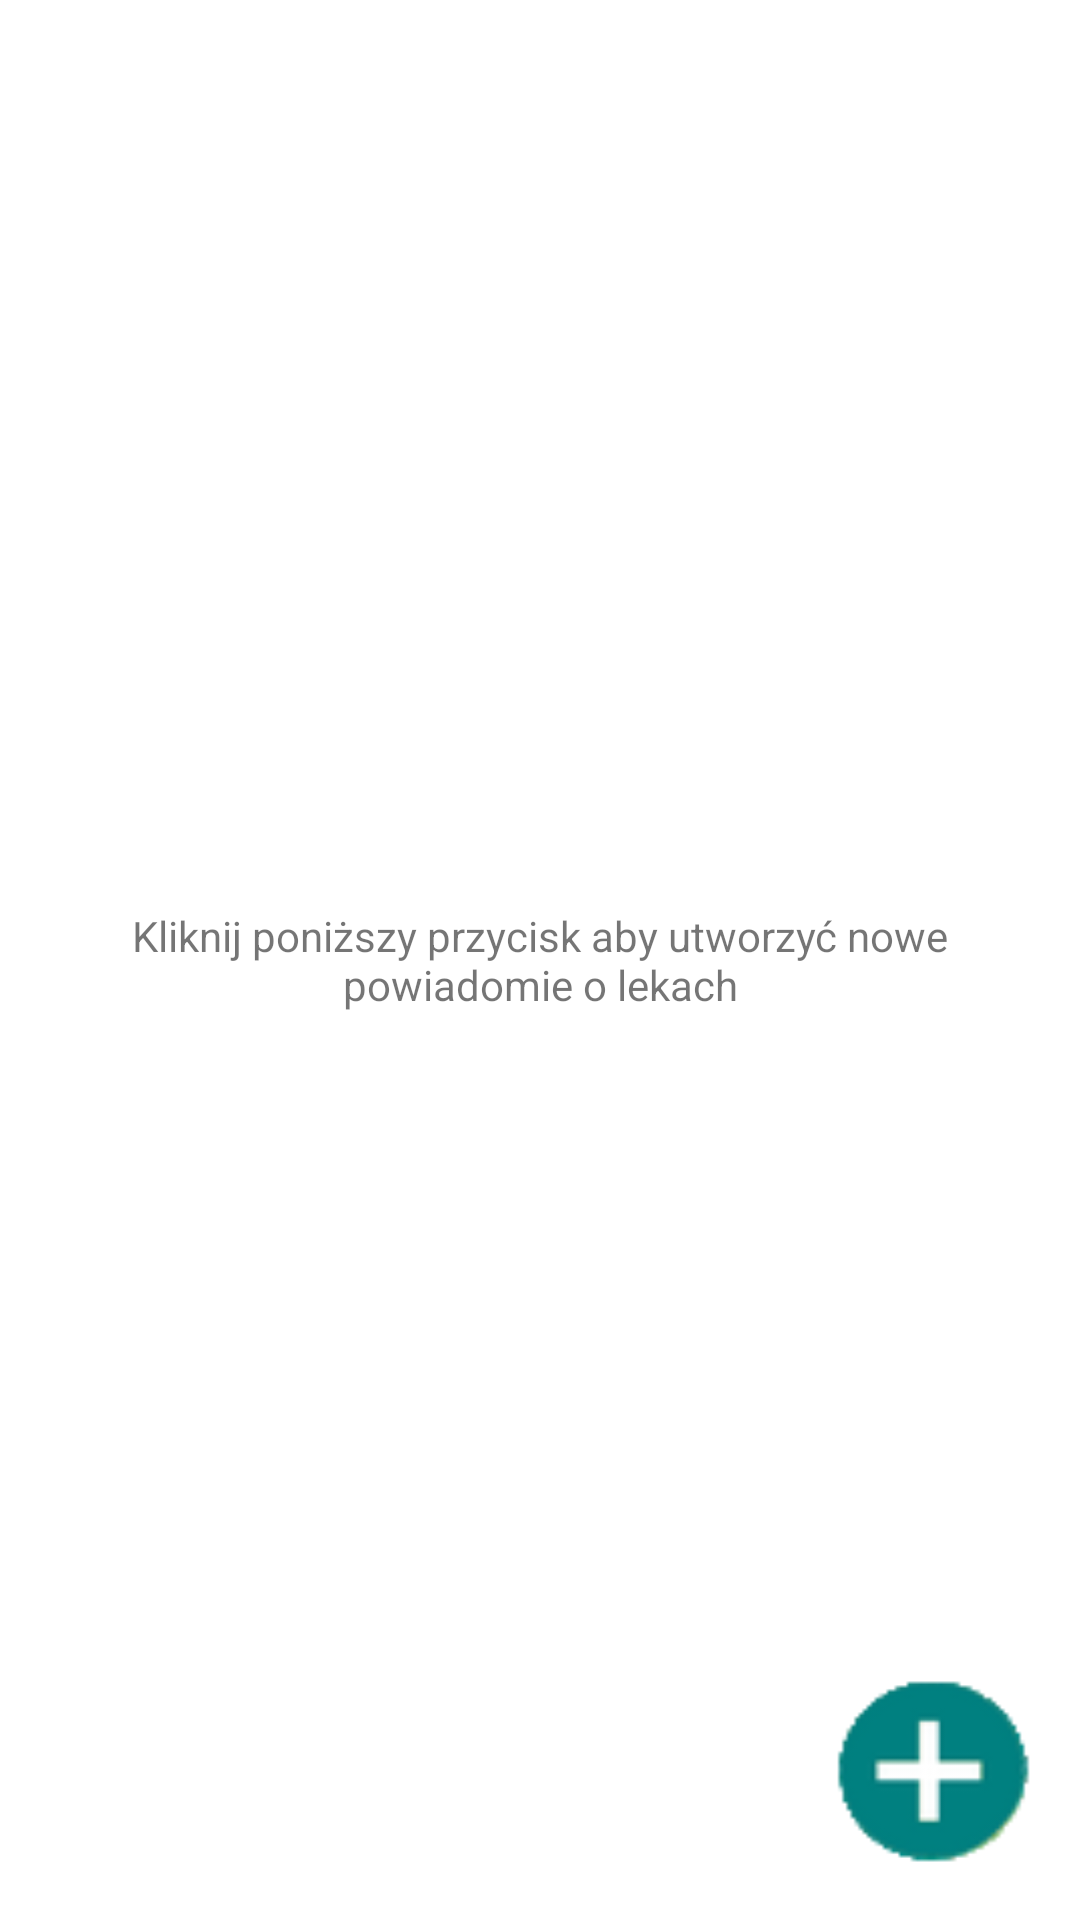

Icons on this 1080x1920 Android screen, each with its box as [left=x1, top=y1, right=x2, bottom=y2]:
addicon: [left=837, top=1681, right=1030, bottom=1862]
